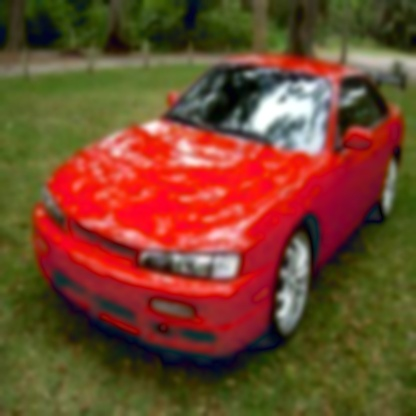Vehicle: (35, 62, 406, 358)
